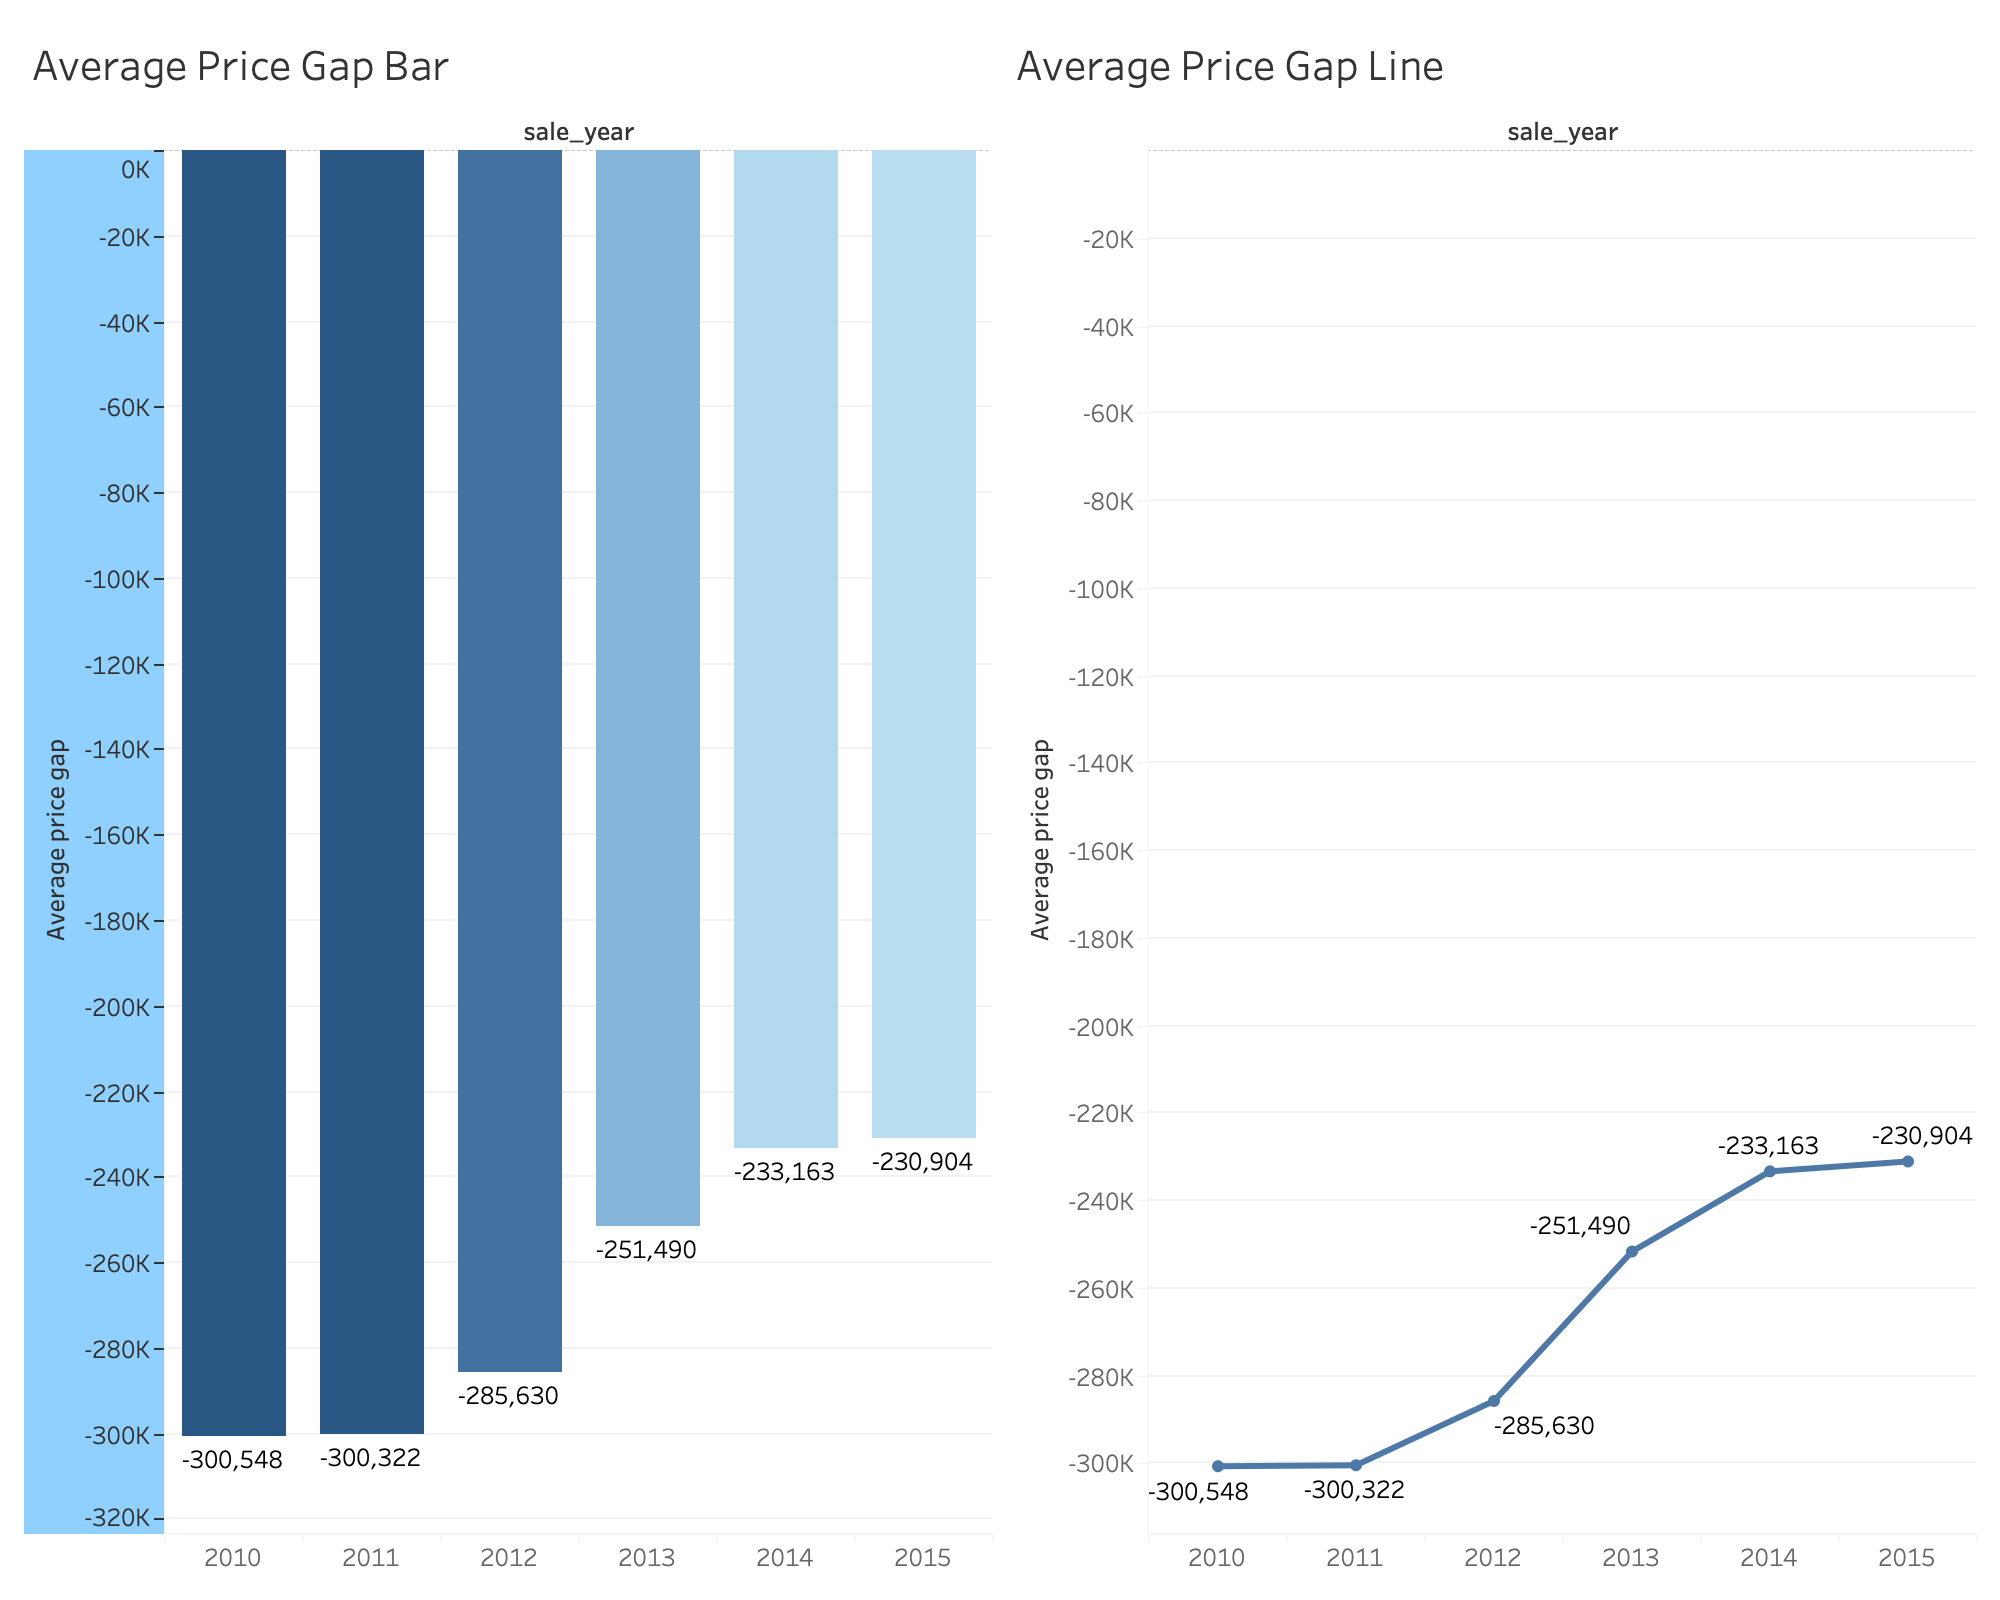

The page's visual inventory and layout, read from the dashboard file:
{"tool":"tableau","page":{"name":"Dashboard 1","canvas":[1000,800],"ordinal":0},"visuals":[{"type":"worksheet","title":"Average Price Gap Bar","mark":"Bar","rows":["price_gap"],"cols":["sale_year"],"box":[8,8,492,784]},{"type":"worksheet","title":"Average Price Gap Line","mark":"Line","rows":["price_gap"],"cols":["sale_year"],"box":[500,8,492,784]}]}

Visuals, with their boxes in screenshot pixels (x1, y1, x2, y2), scaled from the page's 1000x800 canvas onto the 2000x1600 screenshot:
"Average Price Gap Bar" worksheet (Bar marks): 16/16/1000/1584
"Average Price Gap Line" worksheet (Line marks): 1000/16/1984/1584
